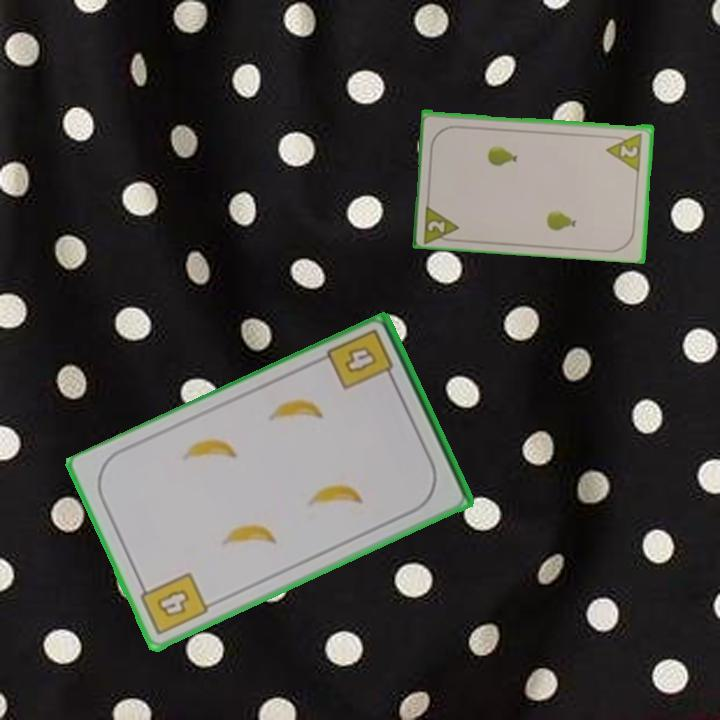2p: (420, 199, 462, 244), (603, 129, 645, 172)
4b: (135, 569, 211, 639), (324, 325, 399, 394)
